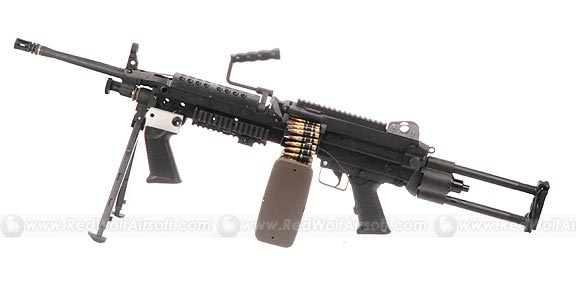Arma Real: (10, 36, 550, 248)
